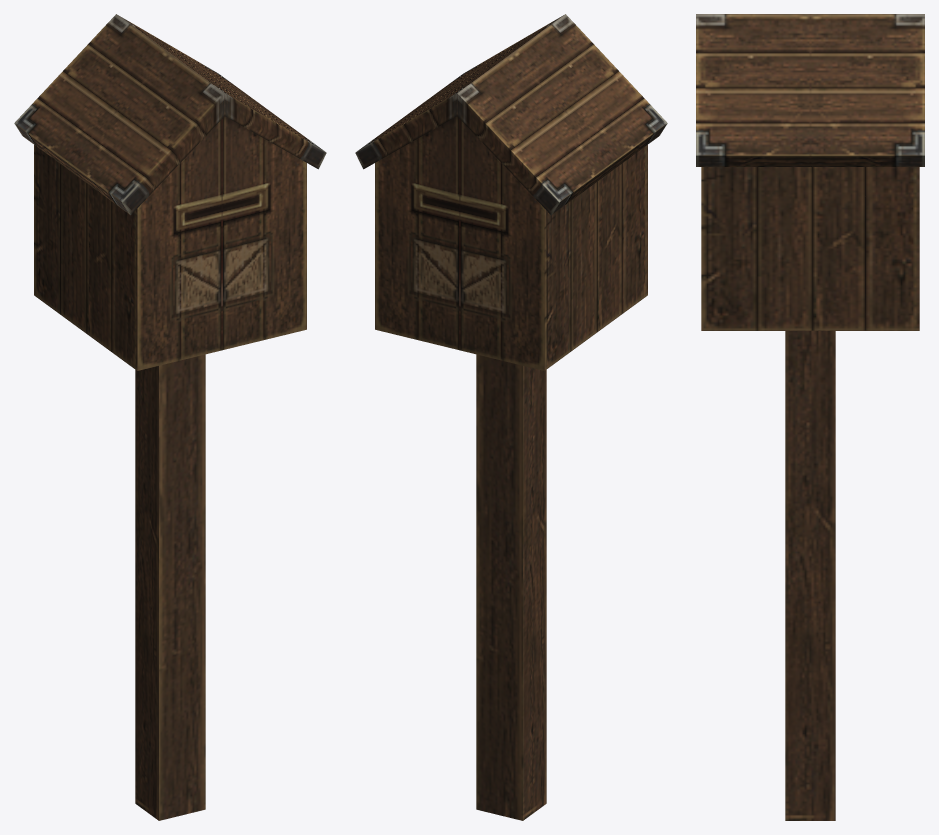
The model's file is Postbox01_b.FBX.
3 views of the same model, side by side, from view 1: azimuth 30°, elevation 25°; view 2: azimuth 150°, elevation 25°; view 3: azimuth 270°, elevation 25° (orthographic). The views are drawn at different scales.
Parts seen in each view (by area): view 1: Postbox01_b; view 2: Postbox01_b; view 3: Postbox01_b.
Boxes of the visible parts, box(x1,y1,x2,y2) form: Postbox01_b: box(14, 14, 326, 820); Postbox01_b: box(355, 14, 667, 820); Postbox01_b: box(696, 14, 924, 820).
Bounding box in the file's own units: 36.96 × 130 × 33.98.
